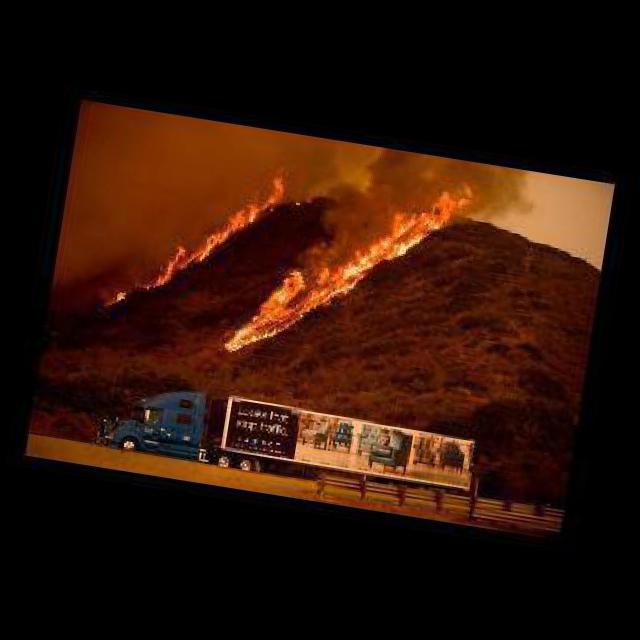Fire: (148, 138, 480, 382)
